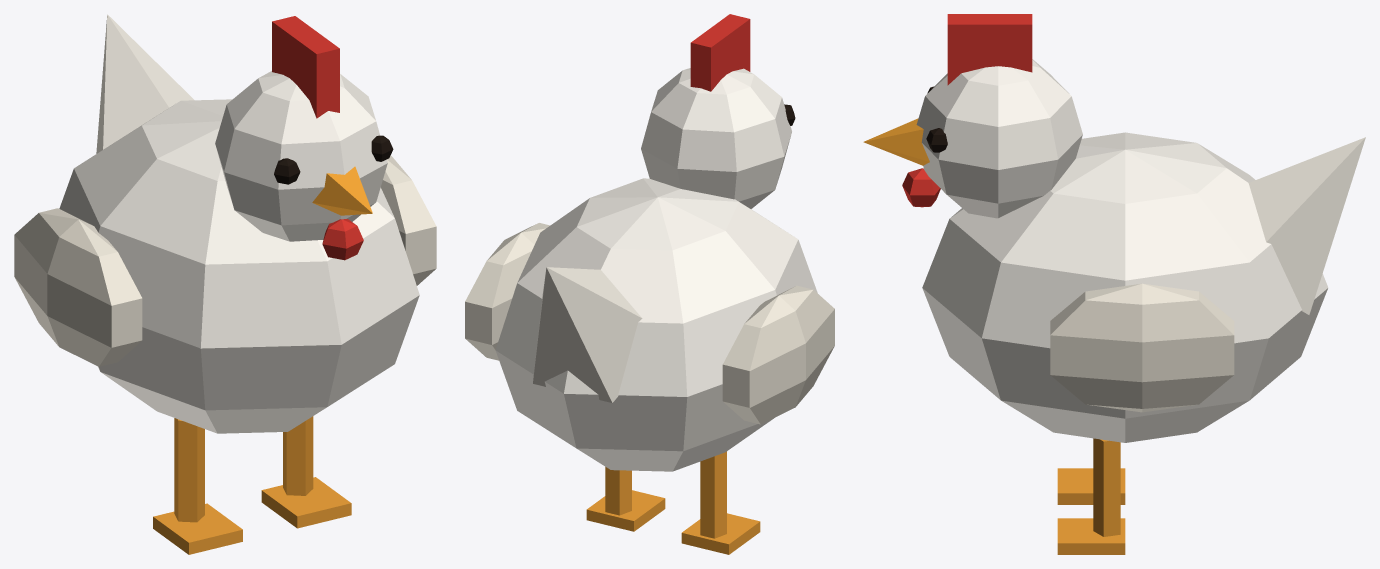
File: CHICKEN.glb
3 renders of one model, left to right at view 1: azimuth 30°, elevation 25°; view 2: azimuth 150°, elevation 25°; view 3: azimuth 270°, elevation 25°, orthographic. The views are drawn at different scales.
Visible parts, largest first — view 1: body, head, chicken, wing_left, wing_right; view 2: body, head, chicken, wing_left, wing_right; view 3: body, head, wing_right, chicken.
Boxes of the visible parts, box(x1,y1,x2,y2) form: body: box(59, 99, 419, 433); head: box(215, 16, 393, 260); chicken: box(96, 14, 351, 554); wing_left: box(14, 208, 142, 366); wing_right: box(381, 155, 436, 285); body: box(495, 178, 817, 471); head: box(641, 14, 795, 208); chicken: box(533, 267, 760, 554); wing_left: box(722, 285, 834, 424); wing_right: box(465, 223, 549, 360); body: box(922, 132, 1328, 442); head: box(863, 14, 1082, 218); wing_right: box(1050, 283, 1234, 412); chicken: box(1057, 137, 1365, 554).
Size of the model in its own units: 0.4599 by 0.65 by 0.5944.
